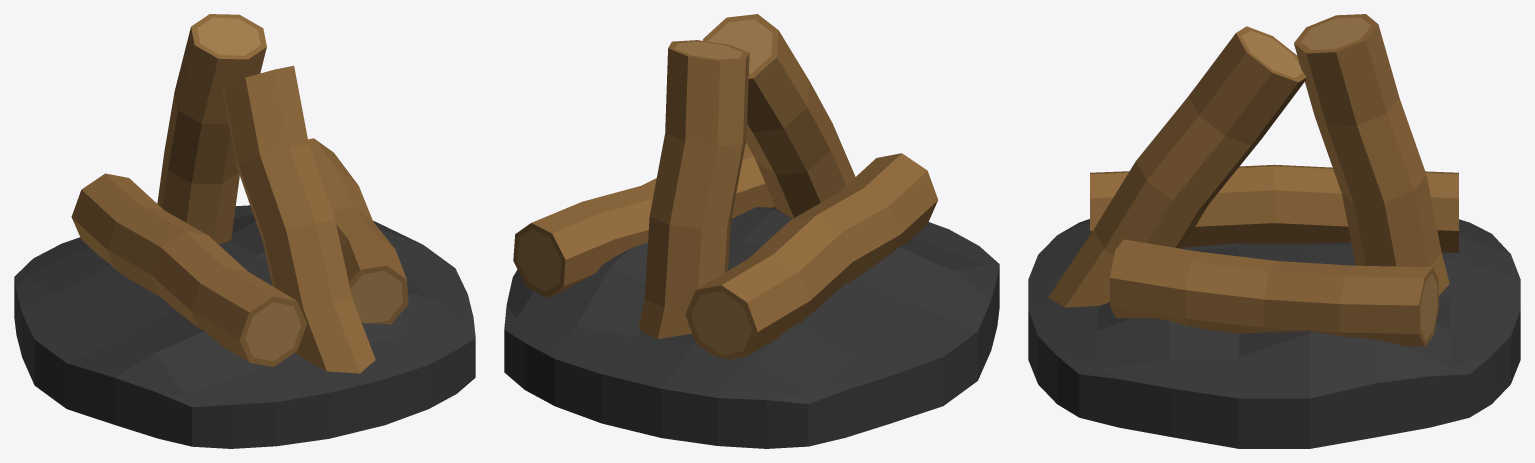
Rendered from Lagerfeuer_01_rdy.fbx.
3 renders of one model, left to right at view 1: azimuth 30°, elevation 25°; view 2: azimuth 150°, elevation 25°; view 3: azimuth 270°, elevation 25°, orthographic. The views are drawn at different scales.
Parts seen in each view (by area): view 1: Lagerfeuer_01; view 2: Lagerfeuer_01; view 3: Lagerfeuer_01.
Boxes of the visible parts, bbox=[...] form: Lagerfeuer_01: bbox=[14, 14, 475, 448]; Lagerfeuer_01: bbox=[504, 14, 999, 448]; Lagerfeuer_01: bbox=[1028, 14, 1520, 448].
Bounding box in the file's own units: 200 × 147 × 200.
